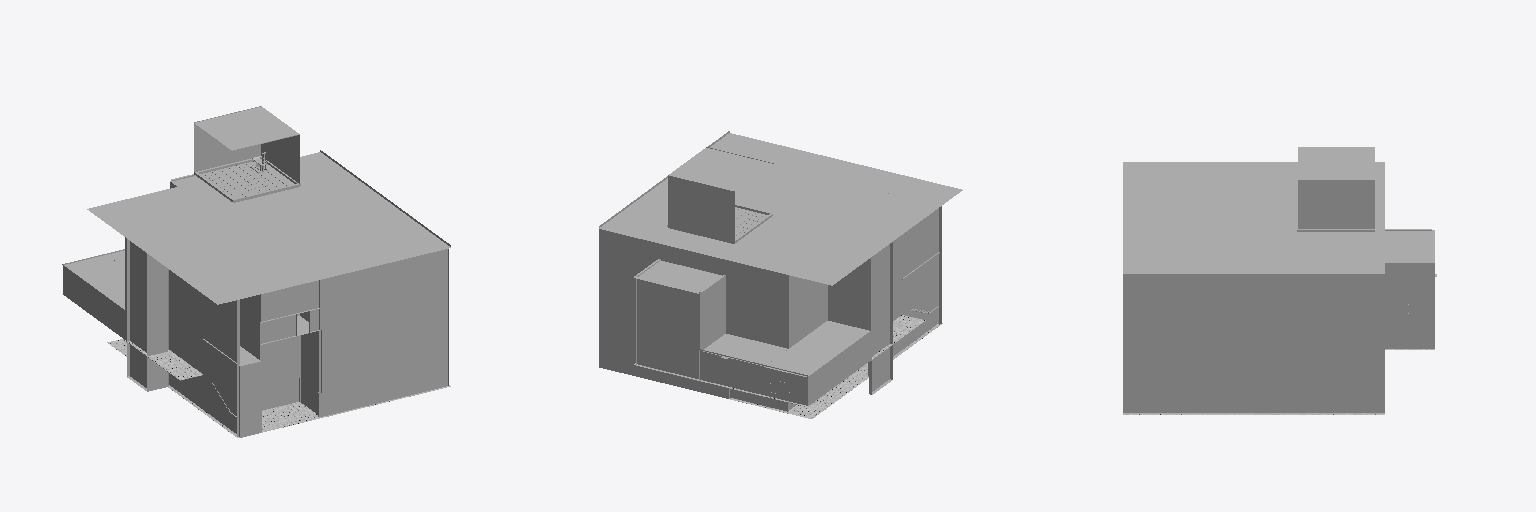
3 renders of one model, left to right at view 1: azimuth 30°, elevation 25°; view 2: azimuth 150°, elevation 25°; view 3: azimuth 270°, elevation 25°, orthographic.
Size of the model in its own units: 3560 by 2984 by 4144.
26 materials, 1 textured.